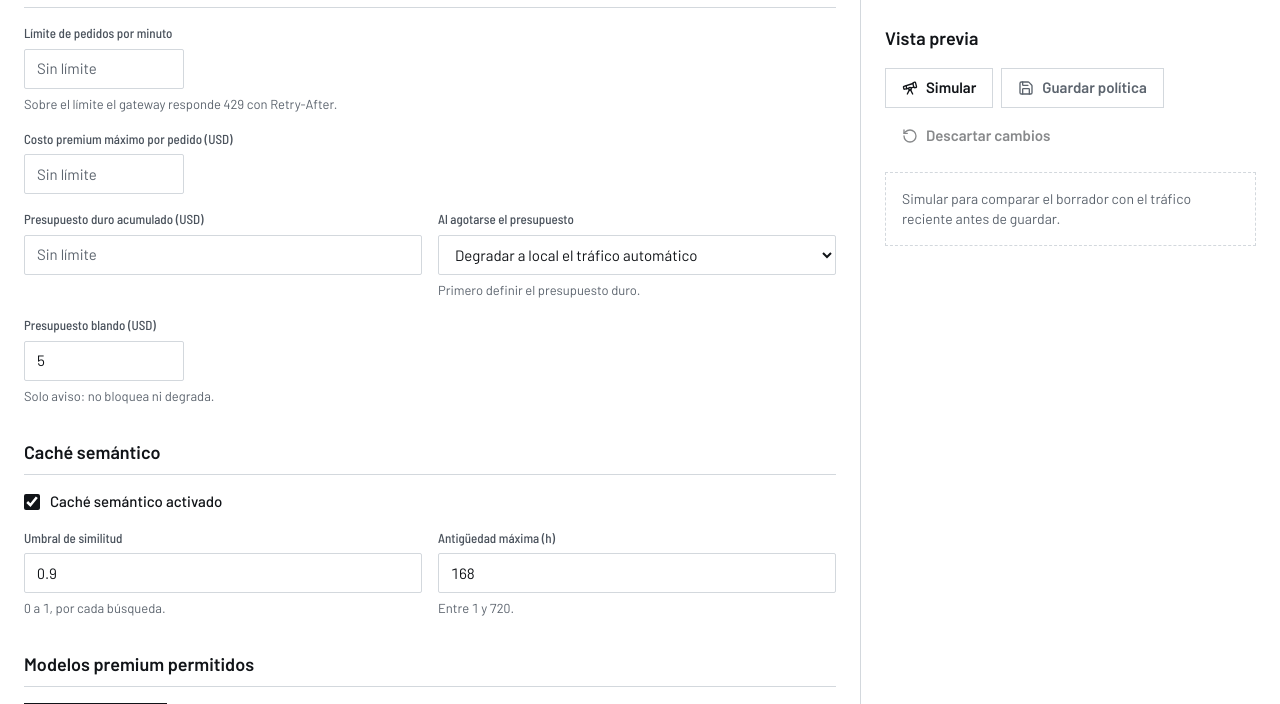
Scenario: policy-form › numeric fields › Presupuesto blando (USD) means no limit only when it is empty, never for a typo
(page scrolled)
Step 1. Clear the field labelled "Presupuesto blando (USD)" → (104, 361), box 24,341 -> 184,381
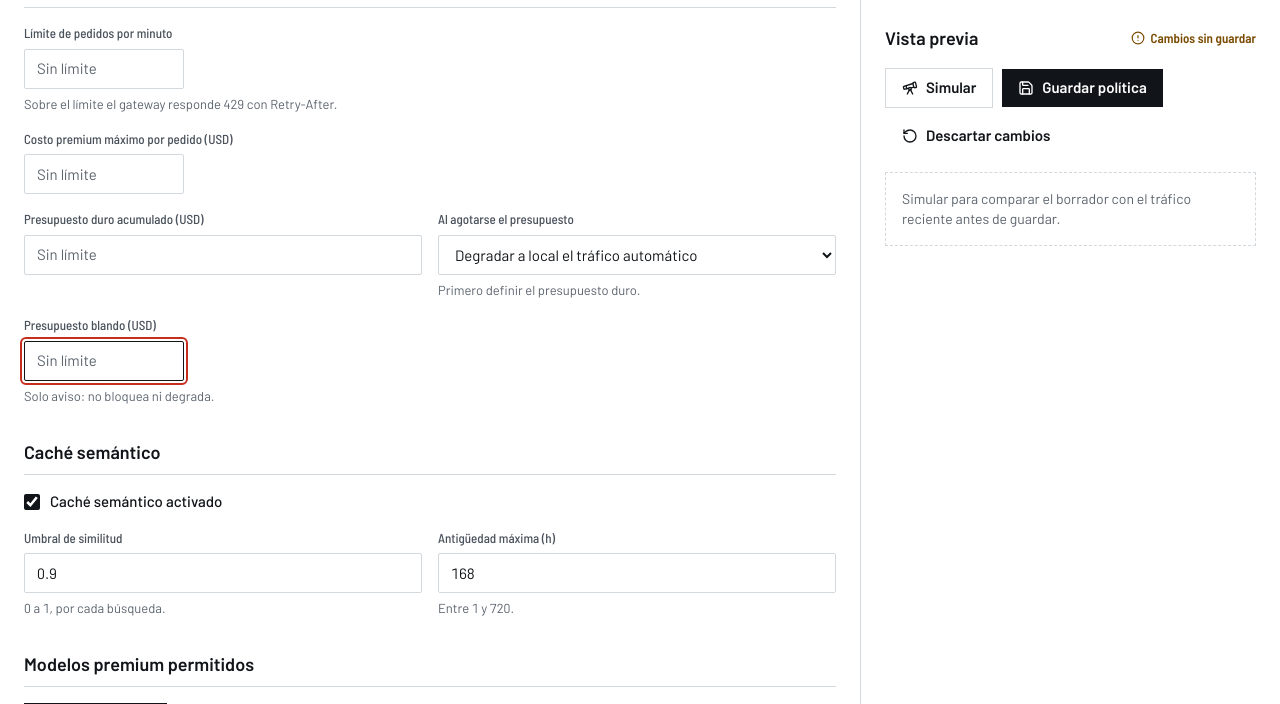
Step 2. Click the button "Guardar política" → (1083, 88), box 1001,68 -> 1164,108
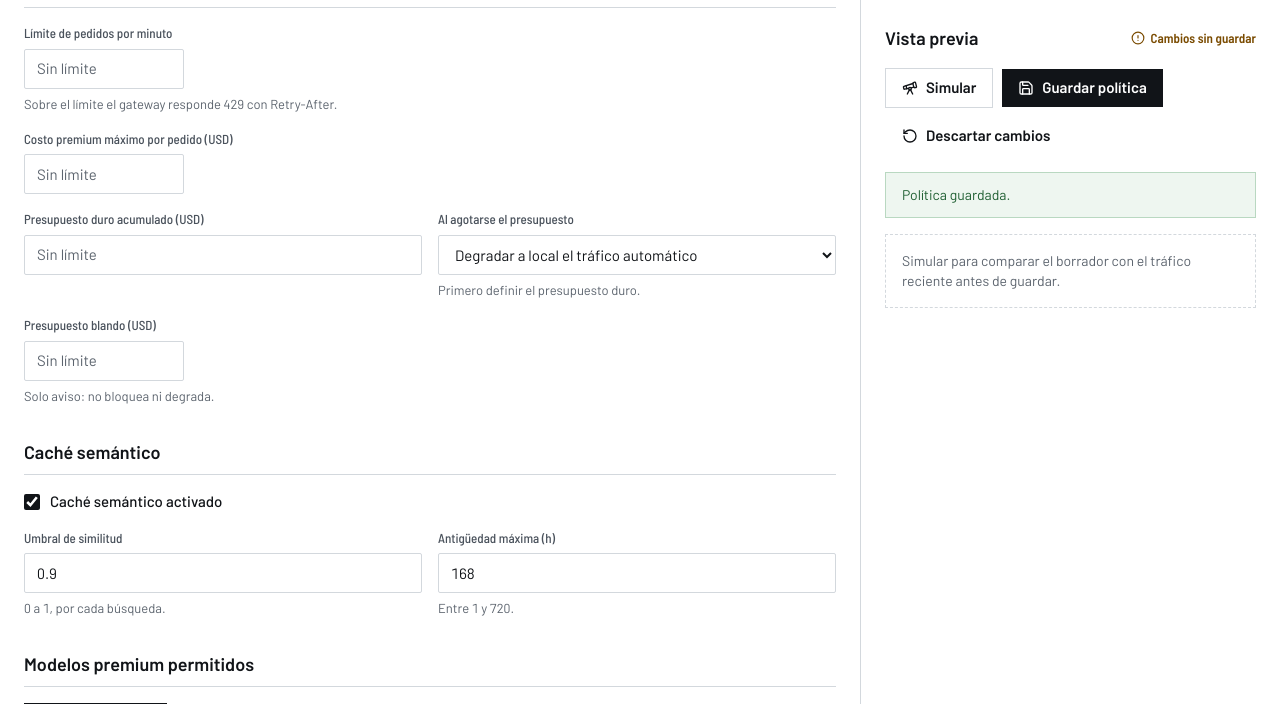
Step 3. Type "abc" into the field labelled "Presupuesto blando (USD)" → (104, 361), box 24,341 -> 184,381
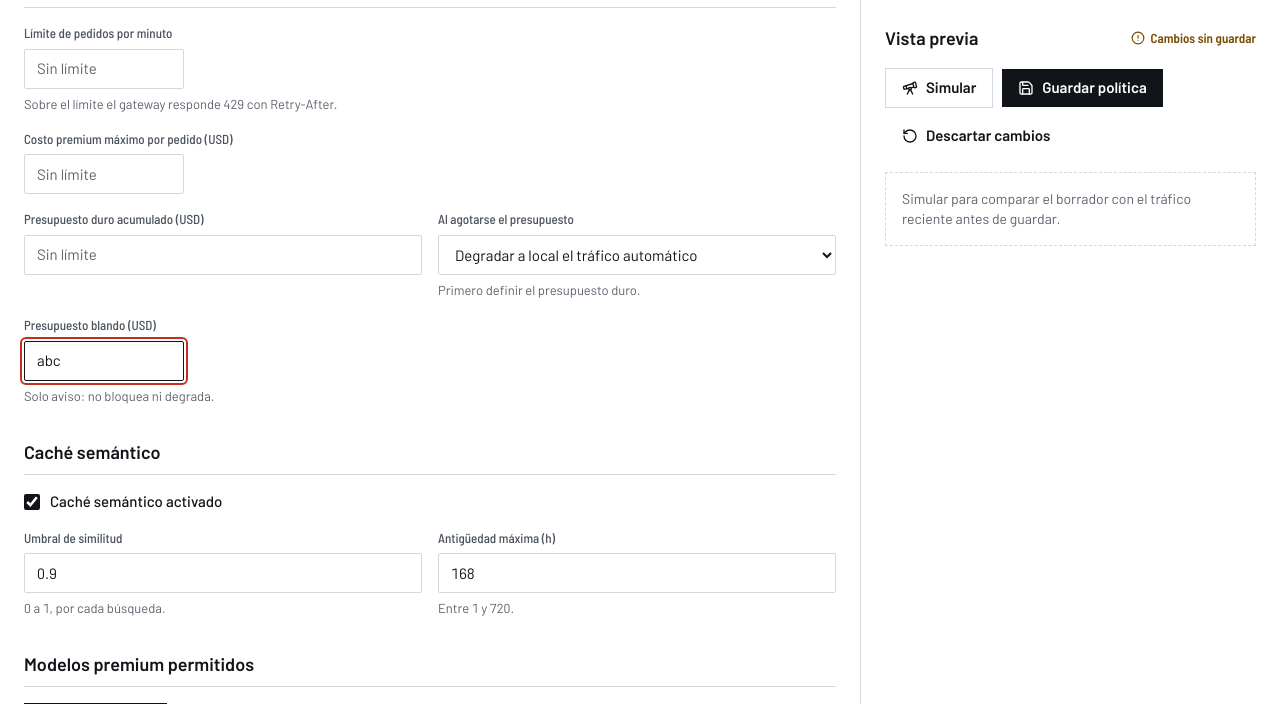
Step 4. Click the button "Guardar política" → (1083, 88), box 1001,68 -> 1164,108
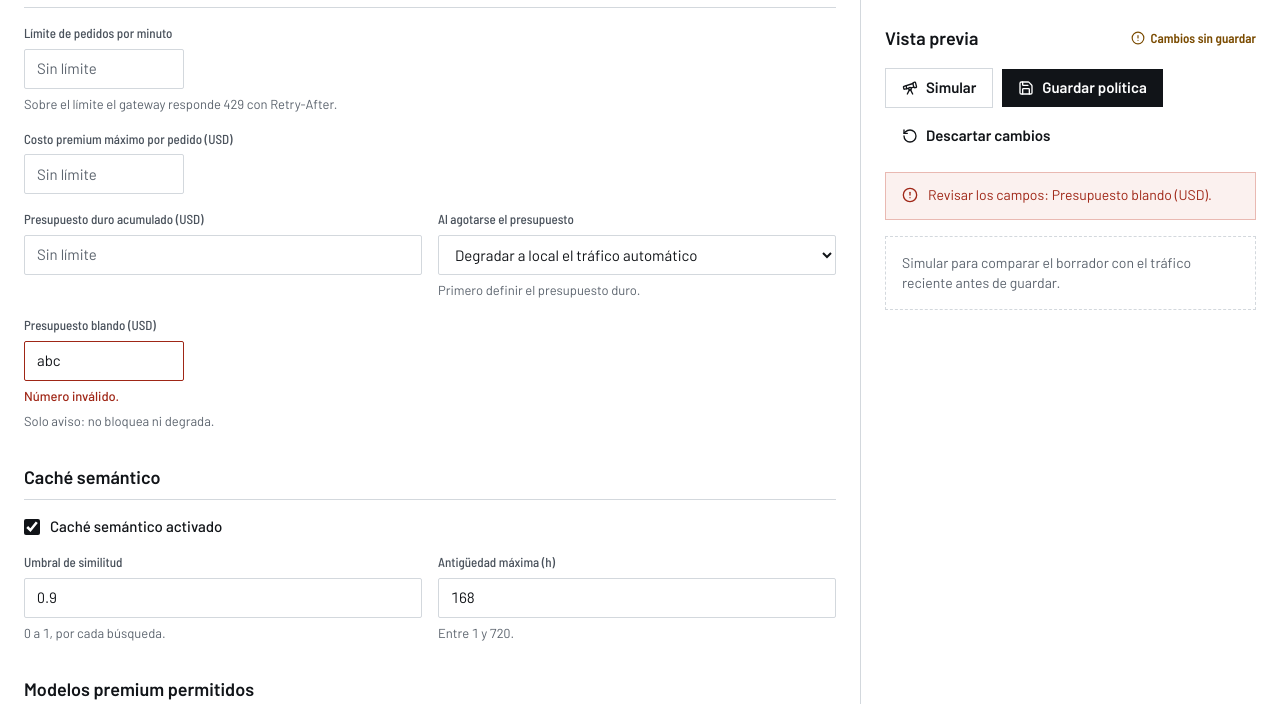
Expected: the text "Número inválido." is shown, 24,388 -> 119,404
